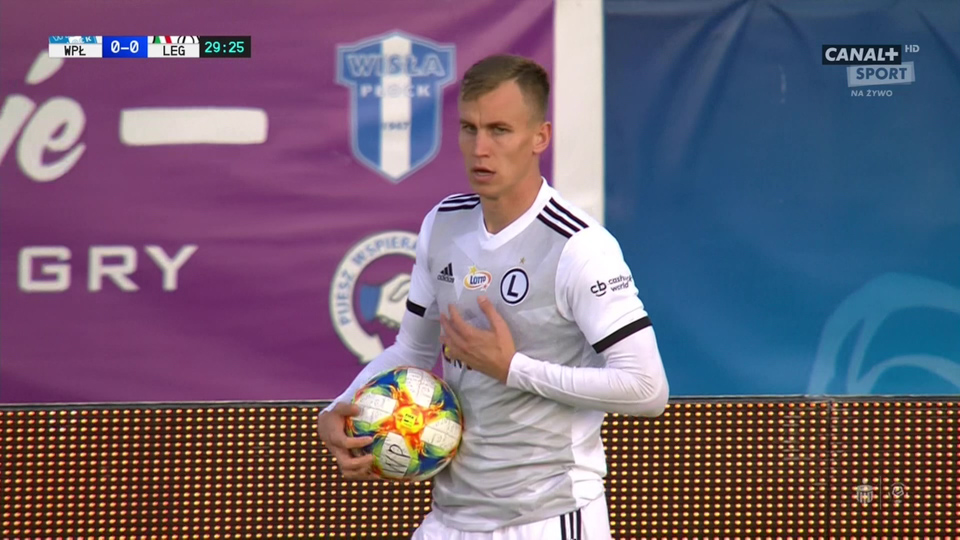Adidas: (437, 260, 457, 282)
